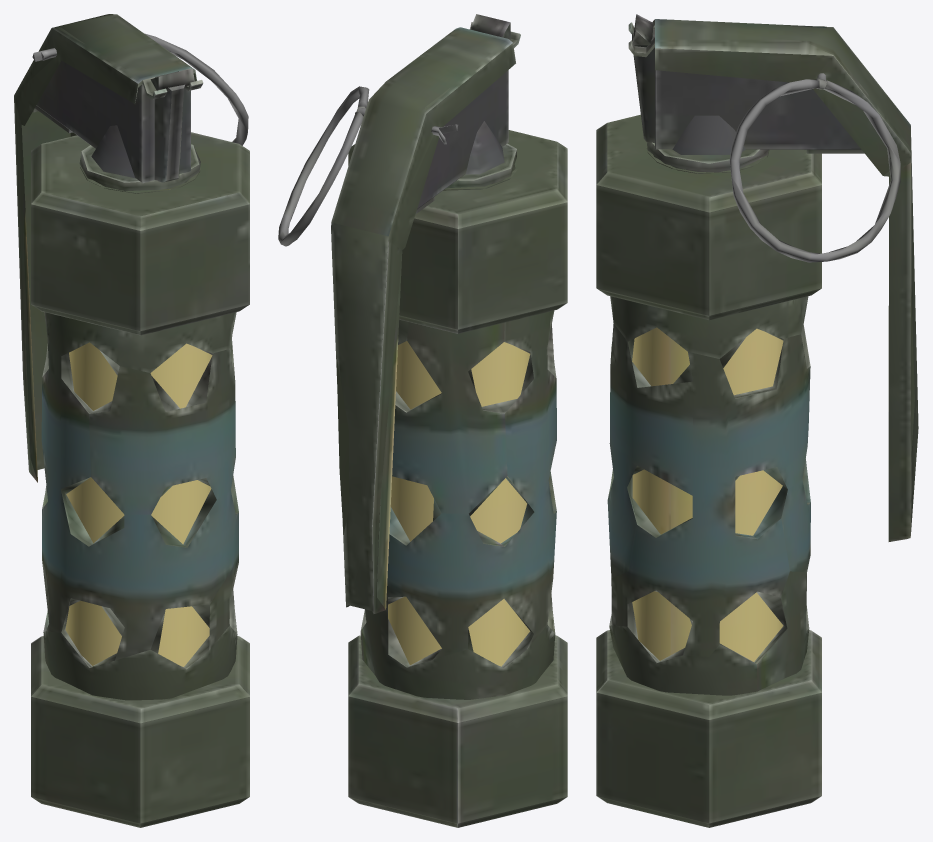
Rendered from 018_Flashbang_cc0_card.glb.
3 renders of one model, left to right at view 1: azimuth 30°, elevation 25°; view 2: azimuth 150°, elevation 25°; view 3: azimuth 270°, elevation 25°, orthographic. The views are drawn at different scales.
Visible parts, largest first — view 1: Flashbang, Pin; view 2: Flashbang, Pin; view 3: Flashbang, Pin.
Part boxes in pixels (box(x1,y1,x2,y2)): Flashbang: box(14, 14, 249, 827); Pin: box(32, 33, 248, 145); Flashbang: box(331, 14, 567, 827); Pin: box(278, 86, 458, 246); Flashbang: box(596, 14, 918, 827); Pin: box(729, 73, 900, 262).
Bounding box in the file's own units: 0.0417 × 0.1214 × 0.0469.
1 material, 1 textured.
